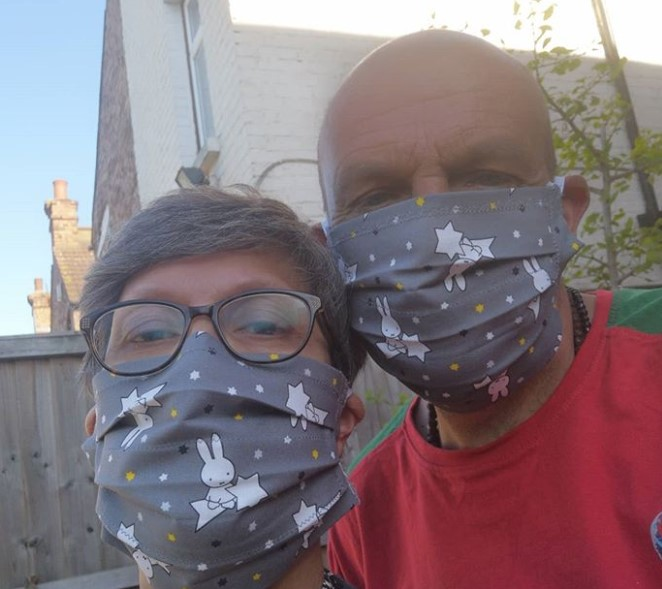face_with_mask: (80, 187, 367, 586), (317, 29, 589, 422)
